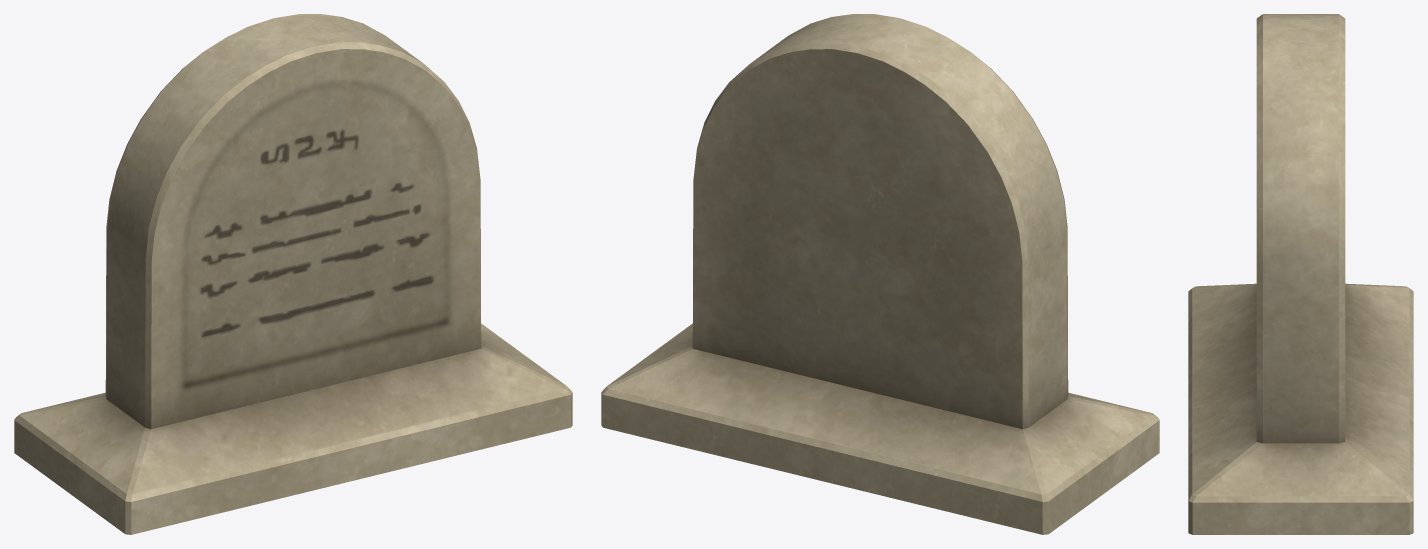
The model's file is sb_obj_outdoor046_GraveStone.fbx.
3 renders of one model, left to right at view 1: azimuth 30°, elevation 25°; view 2: azimuth 150°, elevation 25°; view 3: azimuth 270°, elevation 25°, orthographic. The views are drawn at different scales.
Parts seen in each view (by area): view 1: sb_obj_outdoor046_GraveStone; view 2: sb_obj_outdoor046_GraveStone; view 3: sb_obj_outdoor046_GraveStone.
Boxes of the visible parts, x1,y1,x2,y2 form: sb_obj_outdoor046_GraveStone: [14, 14, 572, 534]; sb_obj_outdoor046_GraveStone: [601, 14, 1159, 534]; sb_obj_outdoor046_GraveStone: [1188, 14, 1413, 534].
Size of the model in its own units: 0.9468 by 0.8224 by 0.4229.
